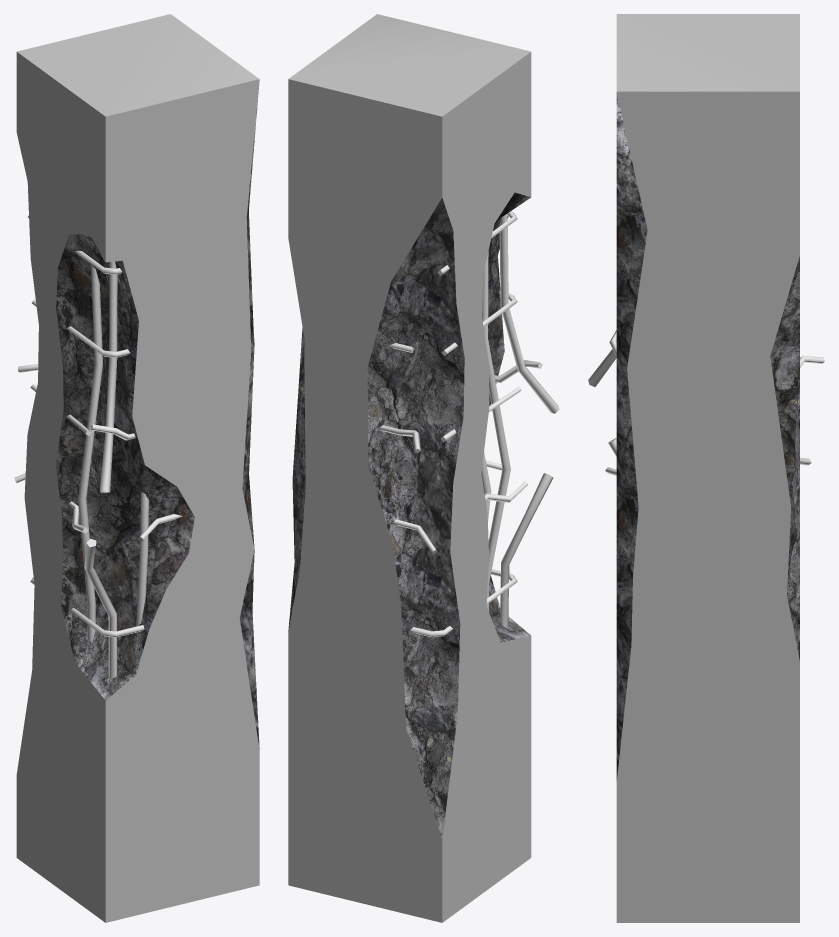
The model's file is Debris5_LOD0.fbx.
3 views of the same model, side by side, from view 1: azimuth 30°, elevation 25°; view 2: azimuth 150°, elevation 25°; view 3: azimuth 270°, elevation 25° (orthographic). The views are drawn at different scales.
Visible parts, largest first — view 1: polySurface1367; view 2: polySurface1367; view 3: polySurface1367.
Part boxes in pixels (bbox=[...]): polySurface1367: bbox=[14, 14, 259, 922]; polySurface1367: bbox=[288, 14, 559, 922]; polySurface1367: bbox=[588, 14, 824, 922].
Size of the model in its own units: 1.07 by 4.72 by 1.22.
